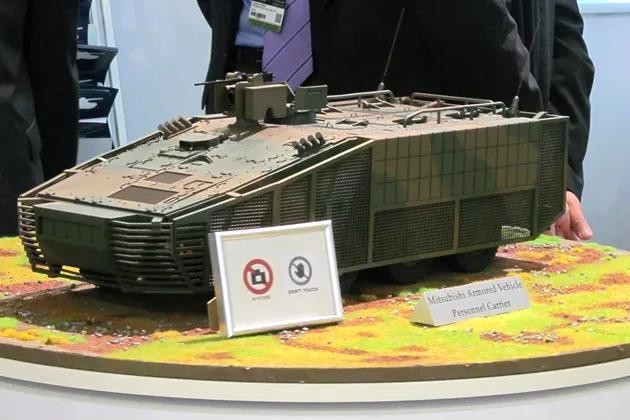MIL_IFV: (16, 71, 569, 318)
